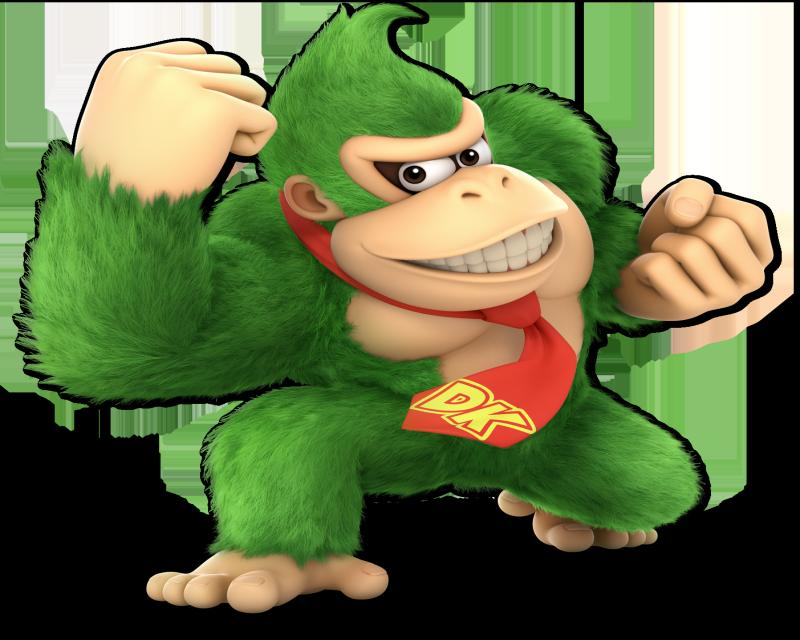dk: (250, 1, 643, 332)
